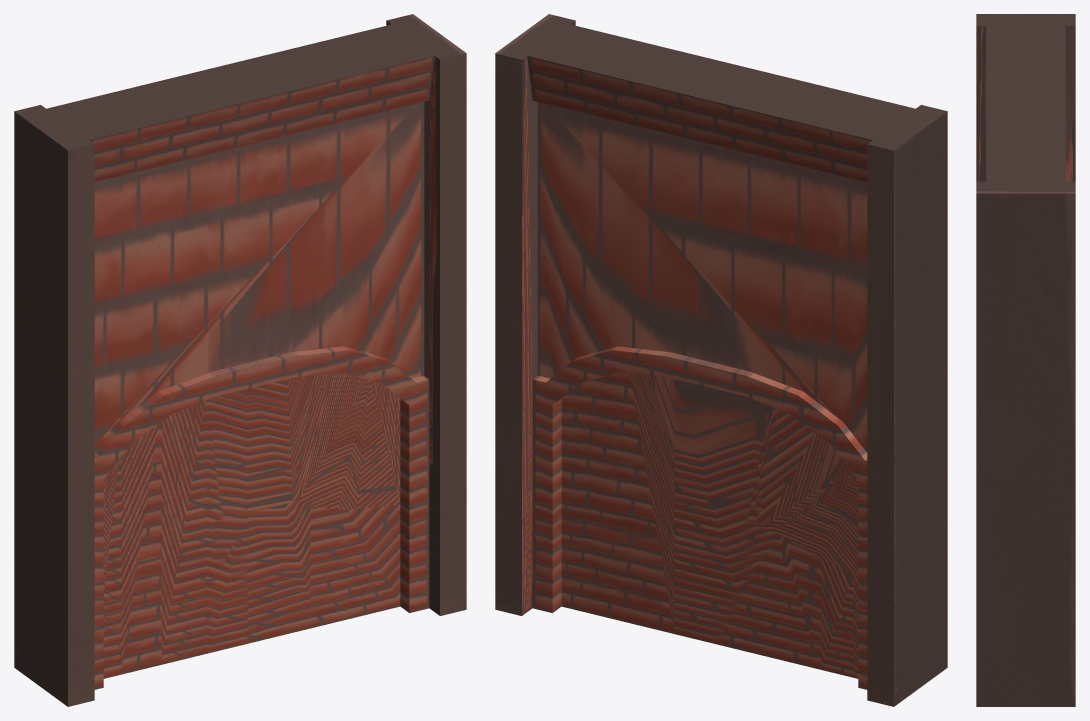
The model's file is BreakableWall.fbx.
3 views of the same model, side by side, from view 1: azimuth 30°, elevation 25°; view 2: azimuth 150°, elevation 25°; view 3: azimuth 270°, elevation 25° (orthographic). The views are drawn at different scales.
Parts seen in each view (by area): view 1: Wall, BreakableWallFull, BreakableWallBroken_cell.010, BreakableWallBroken_cell.005, BreakableWallBroken_cell.006, BreakableWallBroken_cell.001, BreakableWallBroken_cell.003, BreakableWallBroken_cell.012, BreakableWallBroken_cell.002, BreakableWallBroken_cell.017; view 2: Wall, BreakableWallFull, BreakableWallBroken_cell.017, BreakableWallBroken_cell, BreakableWallBroken_cell.016, BreakableWallBroken_cell.015, BreakableWallBroken_cell.013, BreakableWallBroken_cell.004; view 3: Wall.
Part boxes in pixels (bbox=[...]): Wall: bbox=[14, 14, 466, 706]; BreakableWallFull: bbox=[103, 377, 399, 678]; BreakableWallBroken_cell.010: bbox=[298, 380, 400, 509]; BreakableWallBroken_cell.005: bbox=[247, 502, 310, 643]; BreakableWallBroken_cell.006: bbox=[247, 375, 309, 512]; BreakableWallBroken_cell.001: bbox=[346, 504, 400, 619]; BreakableWallBroken_cell.003: bbox=[293, 372, 368, 501]; BreakableWallBroken_cell.012: bbox=[206, 389, 247, 519]; BreakableWallBroken_cell.002: bbox=[311, 506, 346, 628]; BreakableWallBroken_cell.017: bbox=[209, 513, 247, 623]; Wall: bbox=[495, 14, 947, 706]; BreakableWallFull: bbox=[561, 372, 857, 677]; BreakableWallBroken_cell.017: bbox=[714, 519, 777, 659]; BreakableWallBroken_cell: bbox=[777, 534, 820, 669]; BreakableWallBroken_cell.016: bbox=[775, 470, 858, 572]; BreakableWallBroken_cell.015: bbox=[820, 560, 853, 677]; BreakableWallBroken_cell.013: bbox=[754, 408, 815, 525]; BreakableWallBroken_cell.004: bbox=[765, 433, 850, 530]; Wall: bbox=[976, 14, 1075, 706].
Size of the model in its own units: 600 by 800 by 140.
